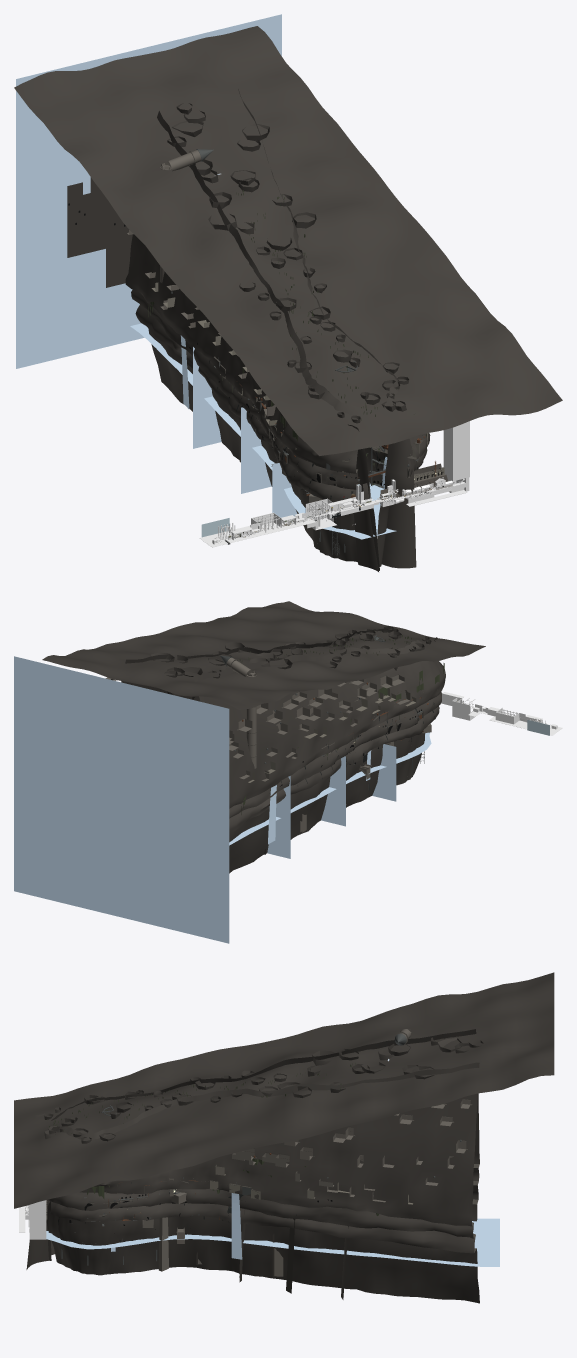
The model's file is set.glb.
3 views of the same model, one above another, from view 1: azimuth 30°, elevation 25°; view 2: azimuth 150°, elevation 25°; view 3: azimuth 270°, elevation 25° (orthographic). The views are drawn at different scales.
Parts seen in each view (by area): view 1: AtriumRock, AtriumMist, AtriumSkyline, EndWell, AtriumMasonry, AtriumSheet, D5Street; view 2: AtriumMist, AtriumRock, AtriumMasonry, AtriumHomes, AtriumVines; view 3: AtriumRock, AtriumMist, AtriumMasonry, AtriumCutBridgeMasonry, EndWell, AtriumVines, AtriumHomes, AtriumCutStone.
Boxes of the visible parts, x1=… form: AtriumRock: x1=14, y1=26, x2=562, y2=571; AtriumMist: x1=16, y1=14, x2=396, y2=539; AtriumSkyline: x1=67, y1=177, x2=132, y2=287; EndWell: x1=443, y1=421, x2=469, y2=492; AtriumMasonry: x1=127, y1=150, x2=351, y2=475; AtriumSheet: x1=171, y1=149, x2=419, y2=555; D5Street: x1=405, y1=483, x2=467, y2=506; AtriumMist: x1=14, y1=656, x2=431, y2=943; AtriumRock: x1=42, y1=601, x2=485, y2=873; AtriumMasonry: x1=105, y1=657, x2=410, y2=832; AtriumHomes: x1=248, y1=688, x2=437, y2=782; AtriumVines: x1=239, y1=630, x2=444, y2=814; AtriumRock: x1=14, y1=972, x2=554, y2=1303; AtriumMist: x1=46, y1=1193, x2=499, y2=1266; AtriumMasonry: x1=143, y1=1028, x2=470, y2=1277; AtriumCutBridgeMasonry: x1=158, y1=1178, x2=186, y2=1271; EndWell: x1=28, y1=1200, x2=46, y2=1239; AtriumVines: x1=47, y1=1063, x2=378, y2=1215; AtriumHomes: x1=106, y1=1165, x2=412, y2=1204; AtriumCutStone: x1=84, y1=1032, x2=472, y2=1243.
Bounding box in the file's own units: 267 × 200 × 384.
288 materials, 112 textured.
